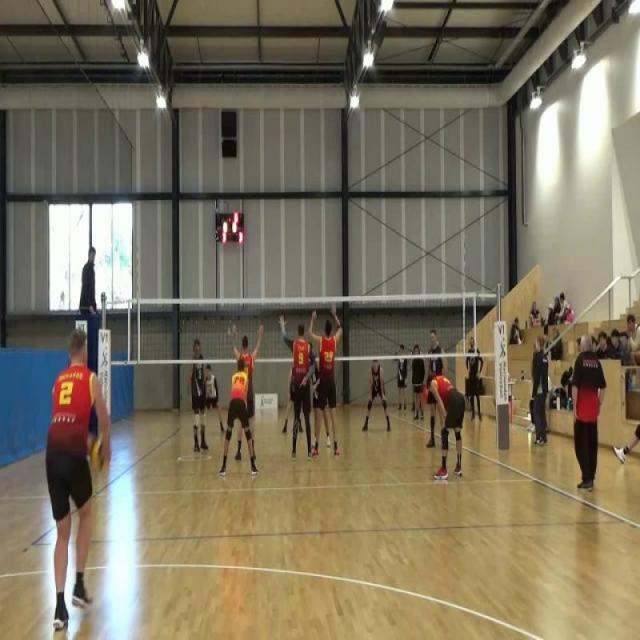volleyball: (88, 437, 112, 477)
